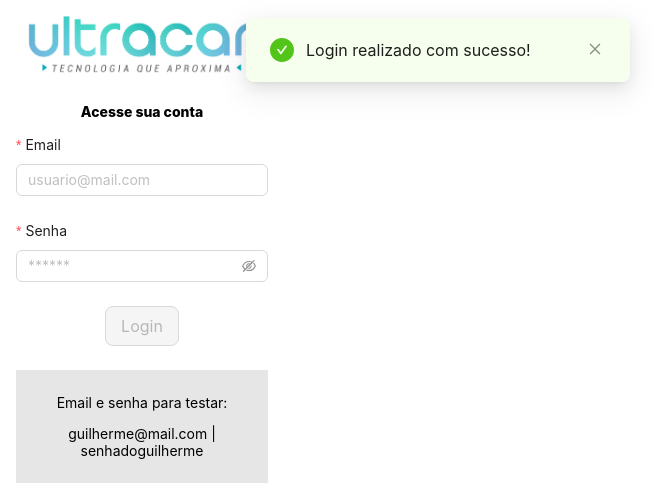
Login page › Tests if user stays on login page after failed login
This screenshot has width=652, height=500.
Type "invalid@mail.com" into the field labelled "Email" at coordinates (142, 180), box [16,164,268,196]
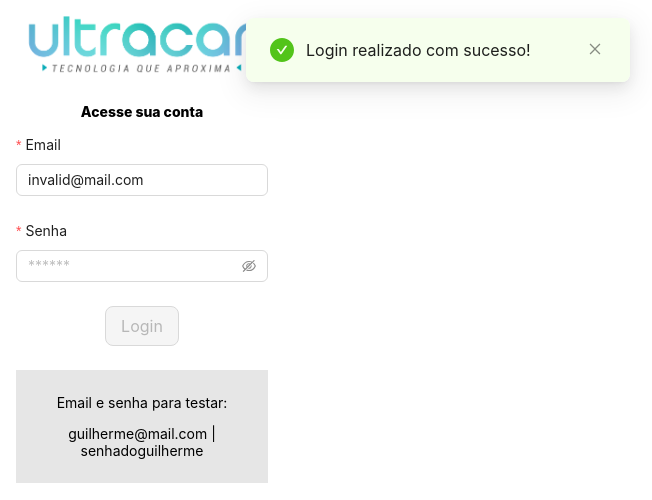
Type "invalid" into the password field labelled "Senha" at coordinates (133, 266), box [28,255,238,277]
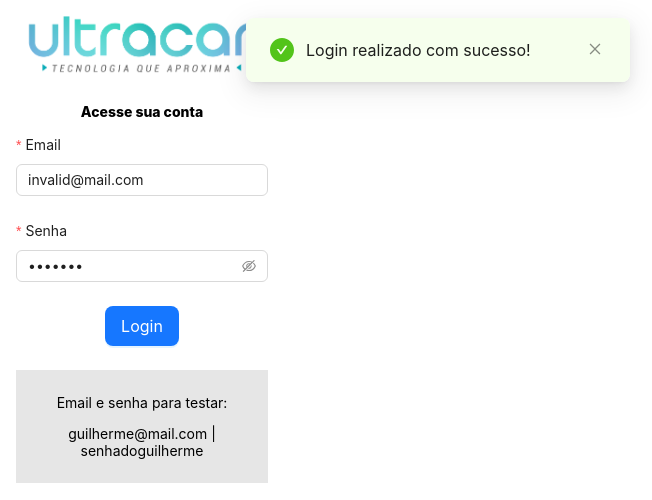
Click the button "Login" at coordinates (142, 326), box [105,306,179,346]
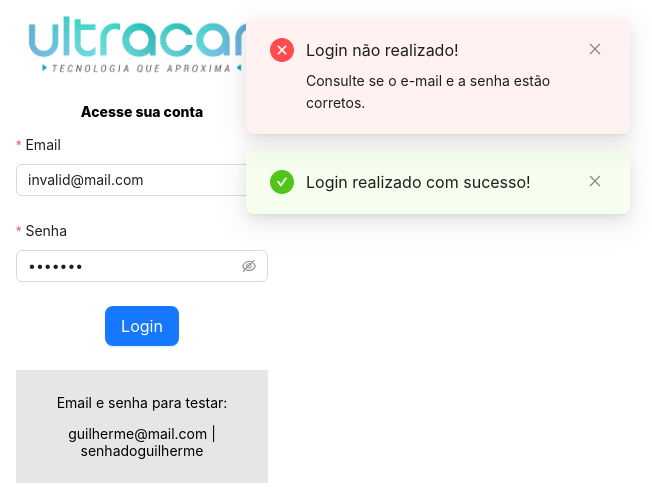
Result: the text "Login não realizado!" is shown at [306,40,459,60]
